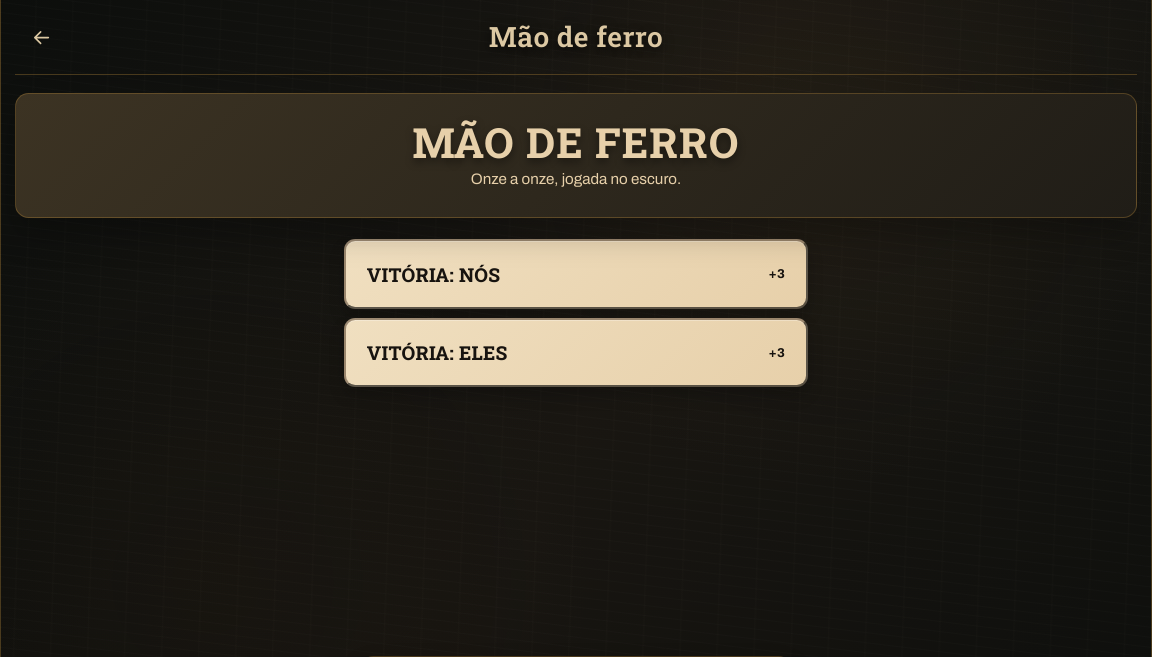
Test case: truco screens › offers only two mão de ferro outcomes and reaches fourteen
Check: the heading "Mão de ferro" is shown, box [489,18,663,55]
What coordinates should you click on to do the following:
click the button "Vitória: Nós +3"
I would click on:
 (413, 274)
Its box is [344,239,808,309].
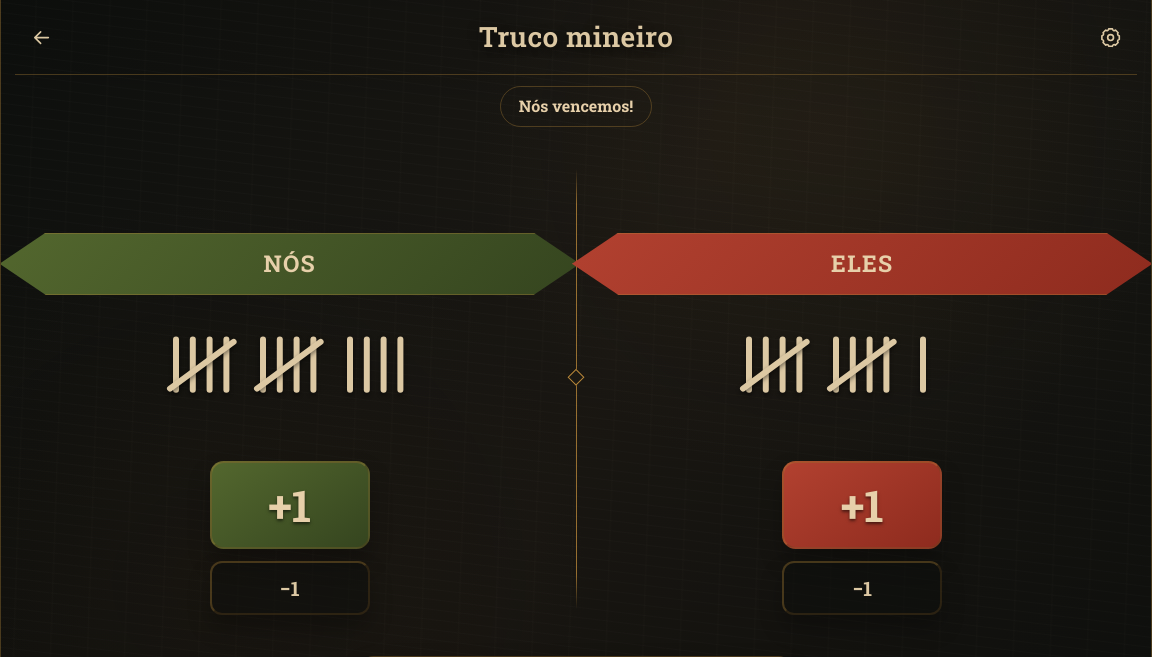
Check: the button with aria-label "Abrir opções de Nós. Placar: 14 pontos" is shown, box [15,233,564,449]
Check: the text "Nós vencemos!" is shown, box [500,86,652,127]
